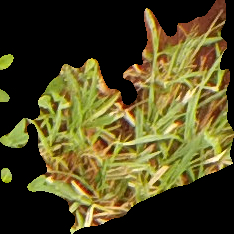grass: (1, 1, 232, 233)
